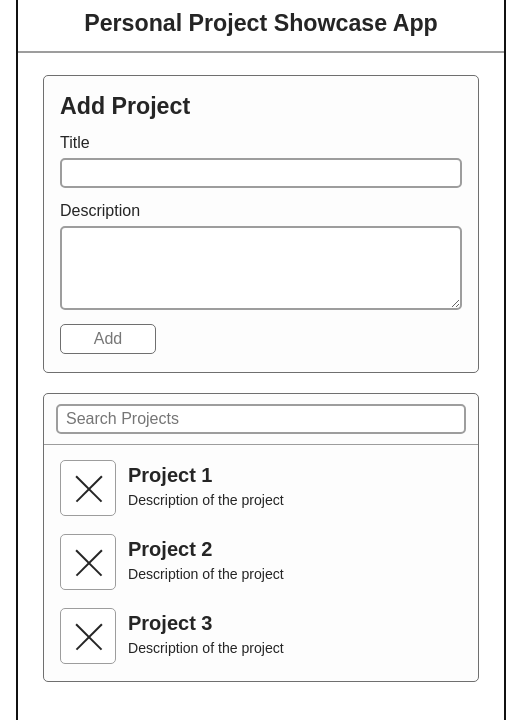
it: Portfolio platform › filters projects with the search field
The image size is (523, 720).
Type "project 2" into the search field labelled "Search Projects" at (261, 419), box [56,404,466,434]
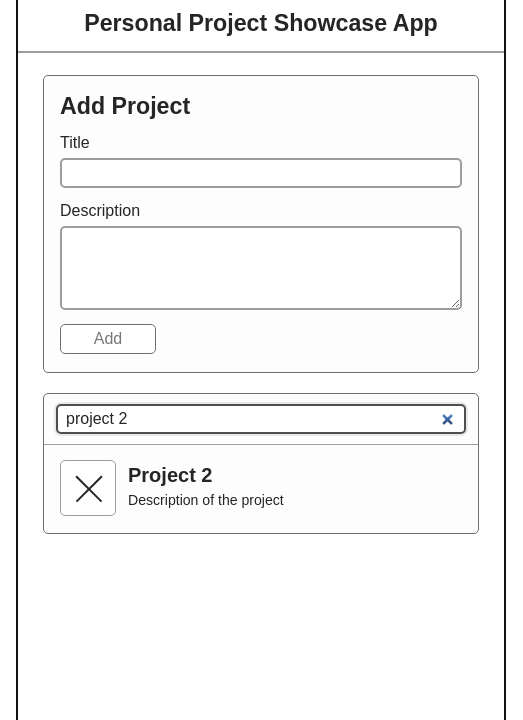
Expected: the heading "Project 2" is shown, [128,464,212,486]
Now the heading "Project 1" is gone
